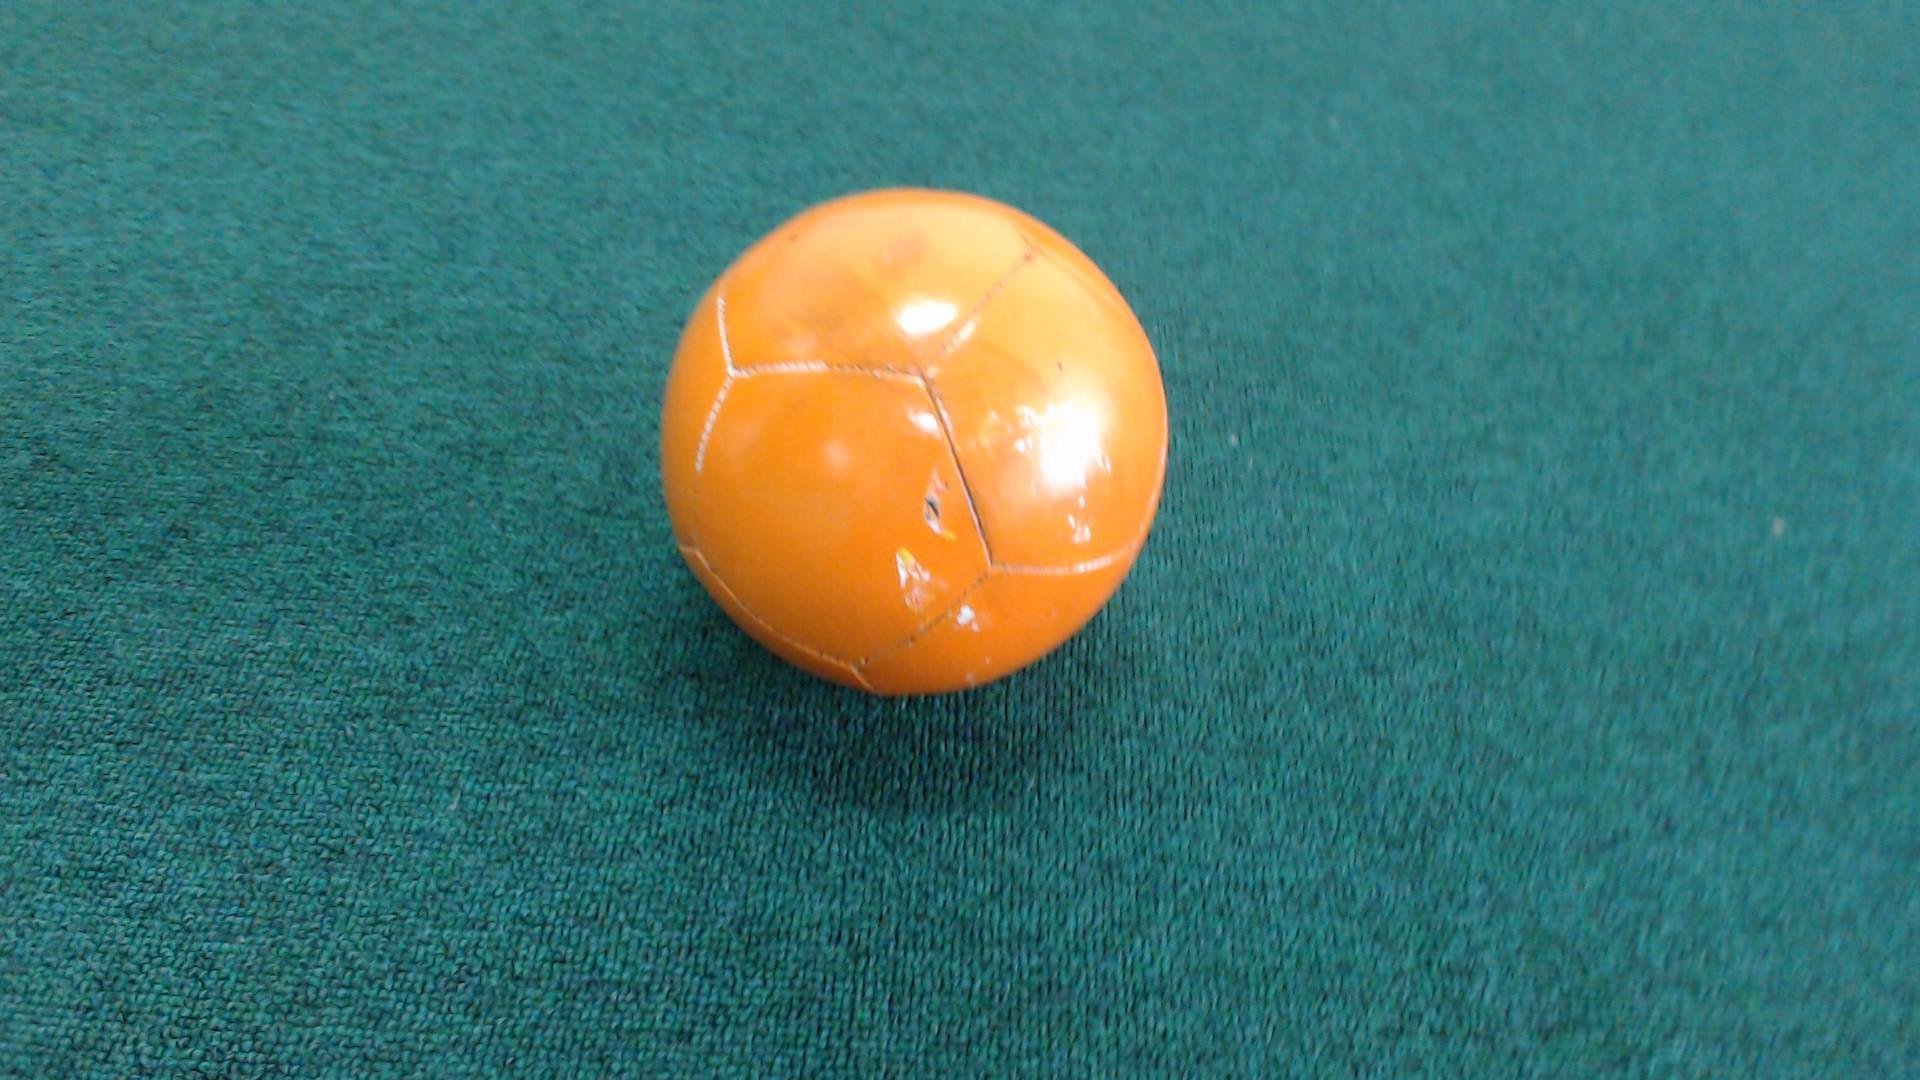bola: (604, 179, 1199, 699)
